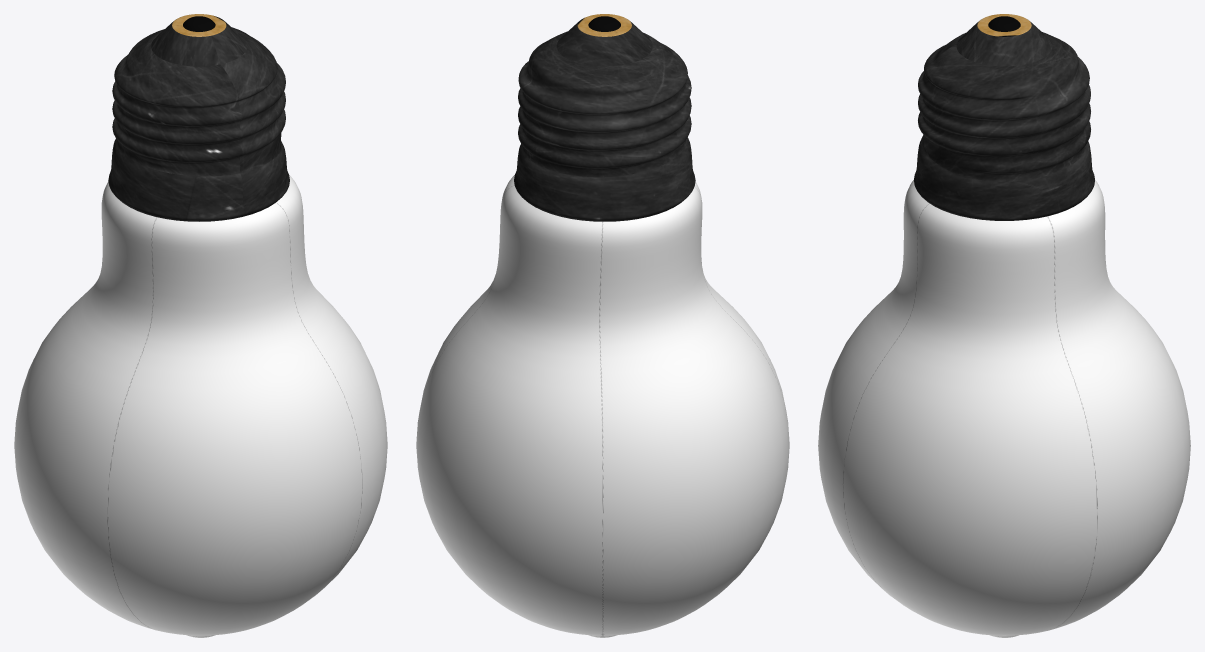
The model's file is Free_Antique_Bulb.obj.
3 views of the same model, side by side, from view 1: azimuth 30°, elevation 25°; view 2: azimuth 150°, elevation 25°; view 3: azimuth 270°, elevation 25° (orthographic).
Visible parts, largest first — view 1: Bulb_Spiral_High_Plane.037; view 2: Bulb_Spiral_High_Plane.037; view 3: Bulb_Spiral_High_Plane.037.
Part boxes in pixels (left/top/right/bottom): Bulb_Spiral_High_Plane.037: left=14, top=14, right=387, bottom=637; Bulb_Spiral_High_Plane.037: left=416, top=14, right=789, bottom=637; Bulb_Spiral_High_Plane.037: left=818, top=14, right=1190, bottom=637.
Bounding box in the file's own units: 0.0518 × 0.0941 × 0.0518.
1 material, 1 textured.
